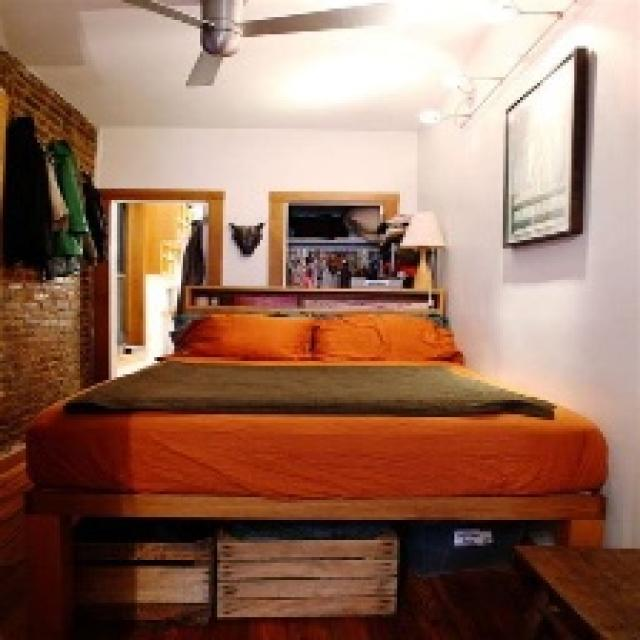Bed: (23, 283, 608, 637)
